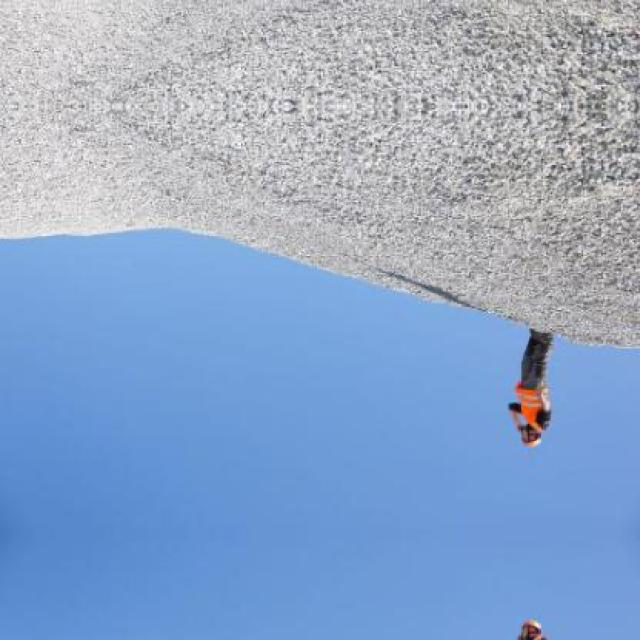con casco: (489, 410, 557, 476)
